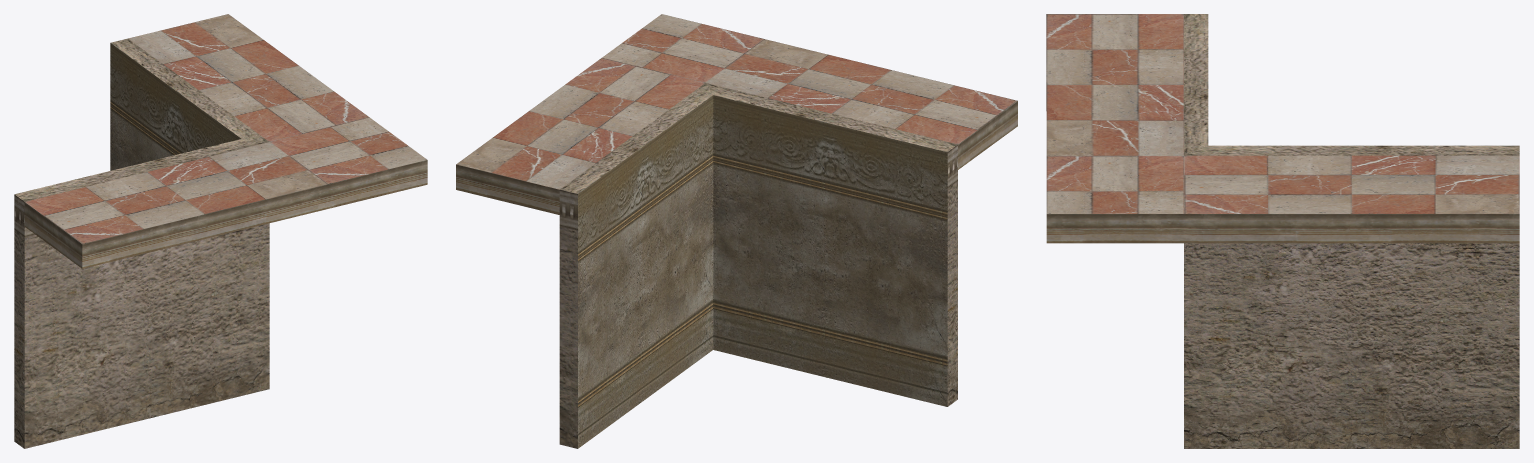
File: SH3D_Sparta_BalcWall9.obj
3 views of the same model, side by side, from view 1: azimuth 30°, elevation 25°; view 2: azimuth 150°, elevation 25°; view 3: azimuth 270°, elevation 25° (orthographic). The views are drawn at different scales.
Parts seen in each view (by area): view 1: Base_ExtWall_Sparta0, Base_Floor2_Sparta0, Base_StepsRail_Sparta0, Base_IntWall_Sparta0; view 2: Base_IntWall_Sparta0, Base_Floor2_Sparta0, Base_ExtWall_Sparta0, Base_StepsRail_Sparta0; view 3: Base_ExtWall_Sparta0, Base_Floor2_Sparta0, Base_StepsRail_Sparta0.
Boxes of the visible parts, x1=… form: Base_ExtWall_Sparta0: x1=14, y1=38, x2=269, y2=448; Base_Floor2_Sparta0: x1=25, y1=14, x2=427, y2=243; Base_StepsRail_Sparta0: x1=24, y1=160, x2=427, y2=268; Base_IntWall_Sparta0: x1=110, y1=43, x2=241, y2=170; Base_IntWall_Sparta0: x1=578, y1=95, x2=947, y2=448; Base_Floor2_Sparta0: x1=456, y1=14, x2=1017, y2=189; Base_ExtWall_Sparta0: x1=559, y1=83, x2=957, y2=448; Base_StepsRail_Sparta0: x1=456, y1=101, x2=1017, y2=214; Base_ExtWall_Sparta0: x1=1184, y1=14, x2=1519, y2=448; Base_Floor2_Sparta0: x1=1046, y1=14, x2=1519, y2=213; Base_StepsRail_Sparta0: x1=1046, y1=82, x2=1519, y2=243.
Bounding box in the file's own units: 585 × 400 × 585.
5 materials, 5 textured.
